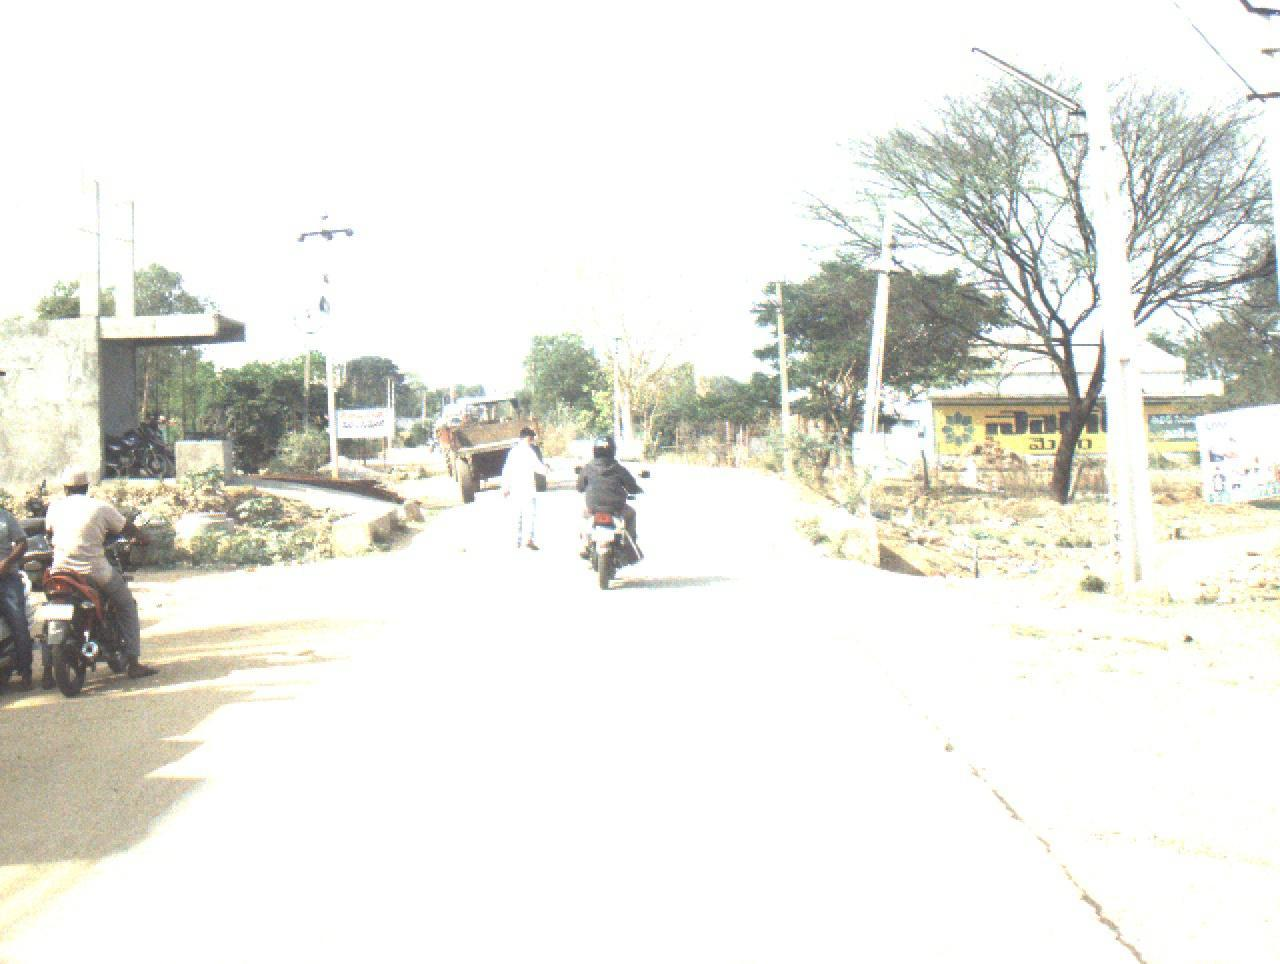off: (30, 16, 1280, 964)
